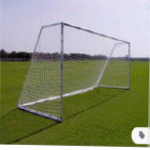goals: (15, 19, 133, 123)
